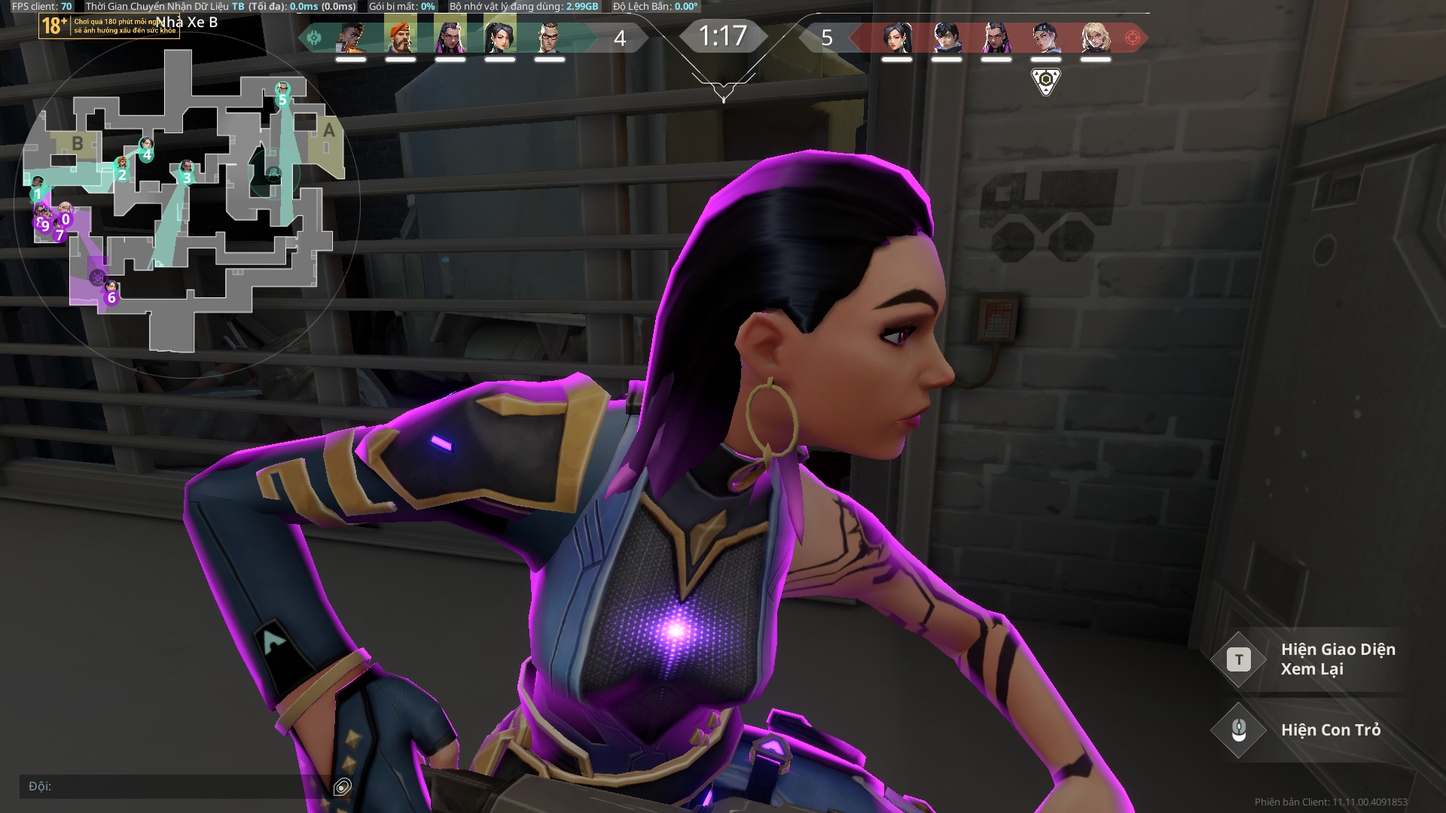body: (508, 363, 813, 749)
head: (681, 135, 954, 462)
